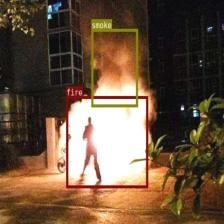fire: (66, 96, 148, 188)
smoke: (91, 28, 137, 106)
